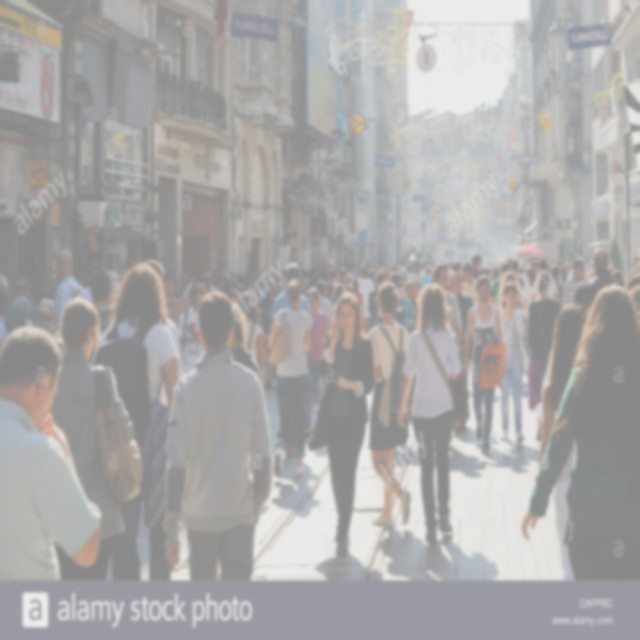pessoa: (520, 282, 640, 581), (162, 290, 274, 580), (92, 263, 180, 581), (0, 322, 102, 580), (52, 296, 136, 582), (305, 288, 377, 560), (396, 281, 462, 548), (538, 303, 588, 581), (484, 250, 640, 323), (368, 282, 412, 527), (266, 277, 313, 480), (208, 257, 280, 380), (460, 271, 503, 453), (492, 281, 527, 447), (526, 270, 562, 430), (304, 287, 330, 439), (0, 272, 60, 334), (176, 274, 213, 374), (430, 261, 464, 358), (52, 248, 88, 330), (269, 261, 313, 327), (374, 271, 417, 333), (448, 271, 474, 363), (301, 261, 358, 297), (88, 267, 115, 334), (164, 312, 183, 400), (367, 270, 387, 332), (403, 272, 422, 337), (358, 264, 376, 332), (163, 263, 196, 299), (377, 258, 433, 278), (458, 261, 482, 306), (350, 276, 366, 332), (318, 296, 338, 325), (144, 256, 164, 280), (440, 257, 460, 273), (462, 256, 484, 270), (198, 258, 208, 276), (418, 276, 432, 288)
